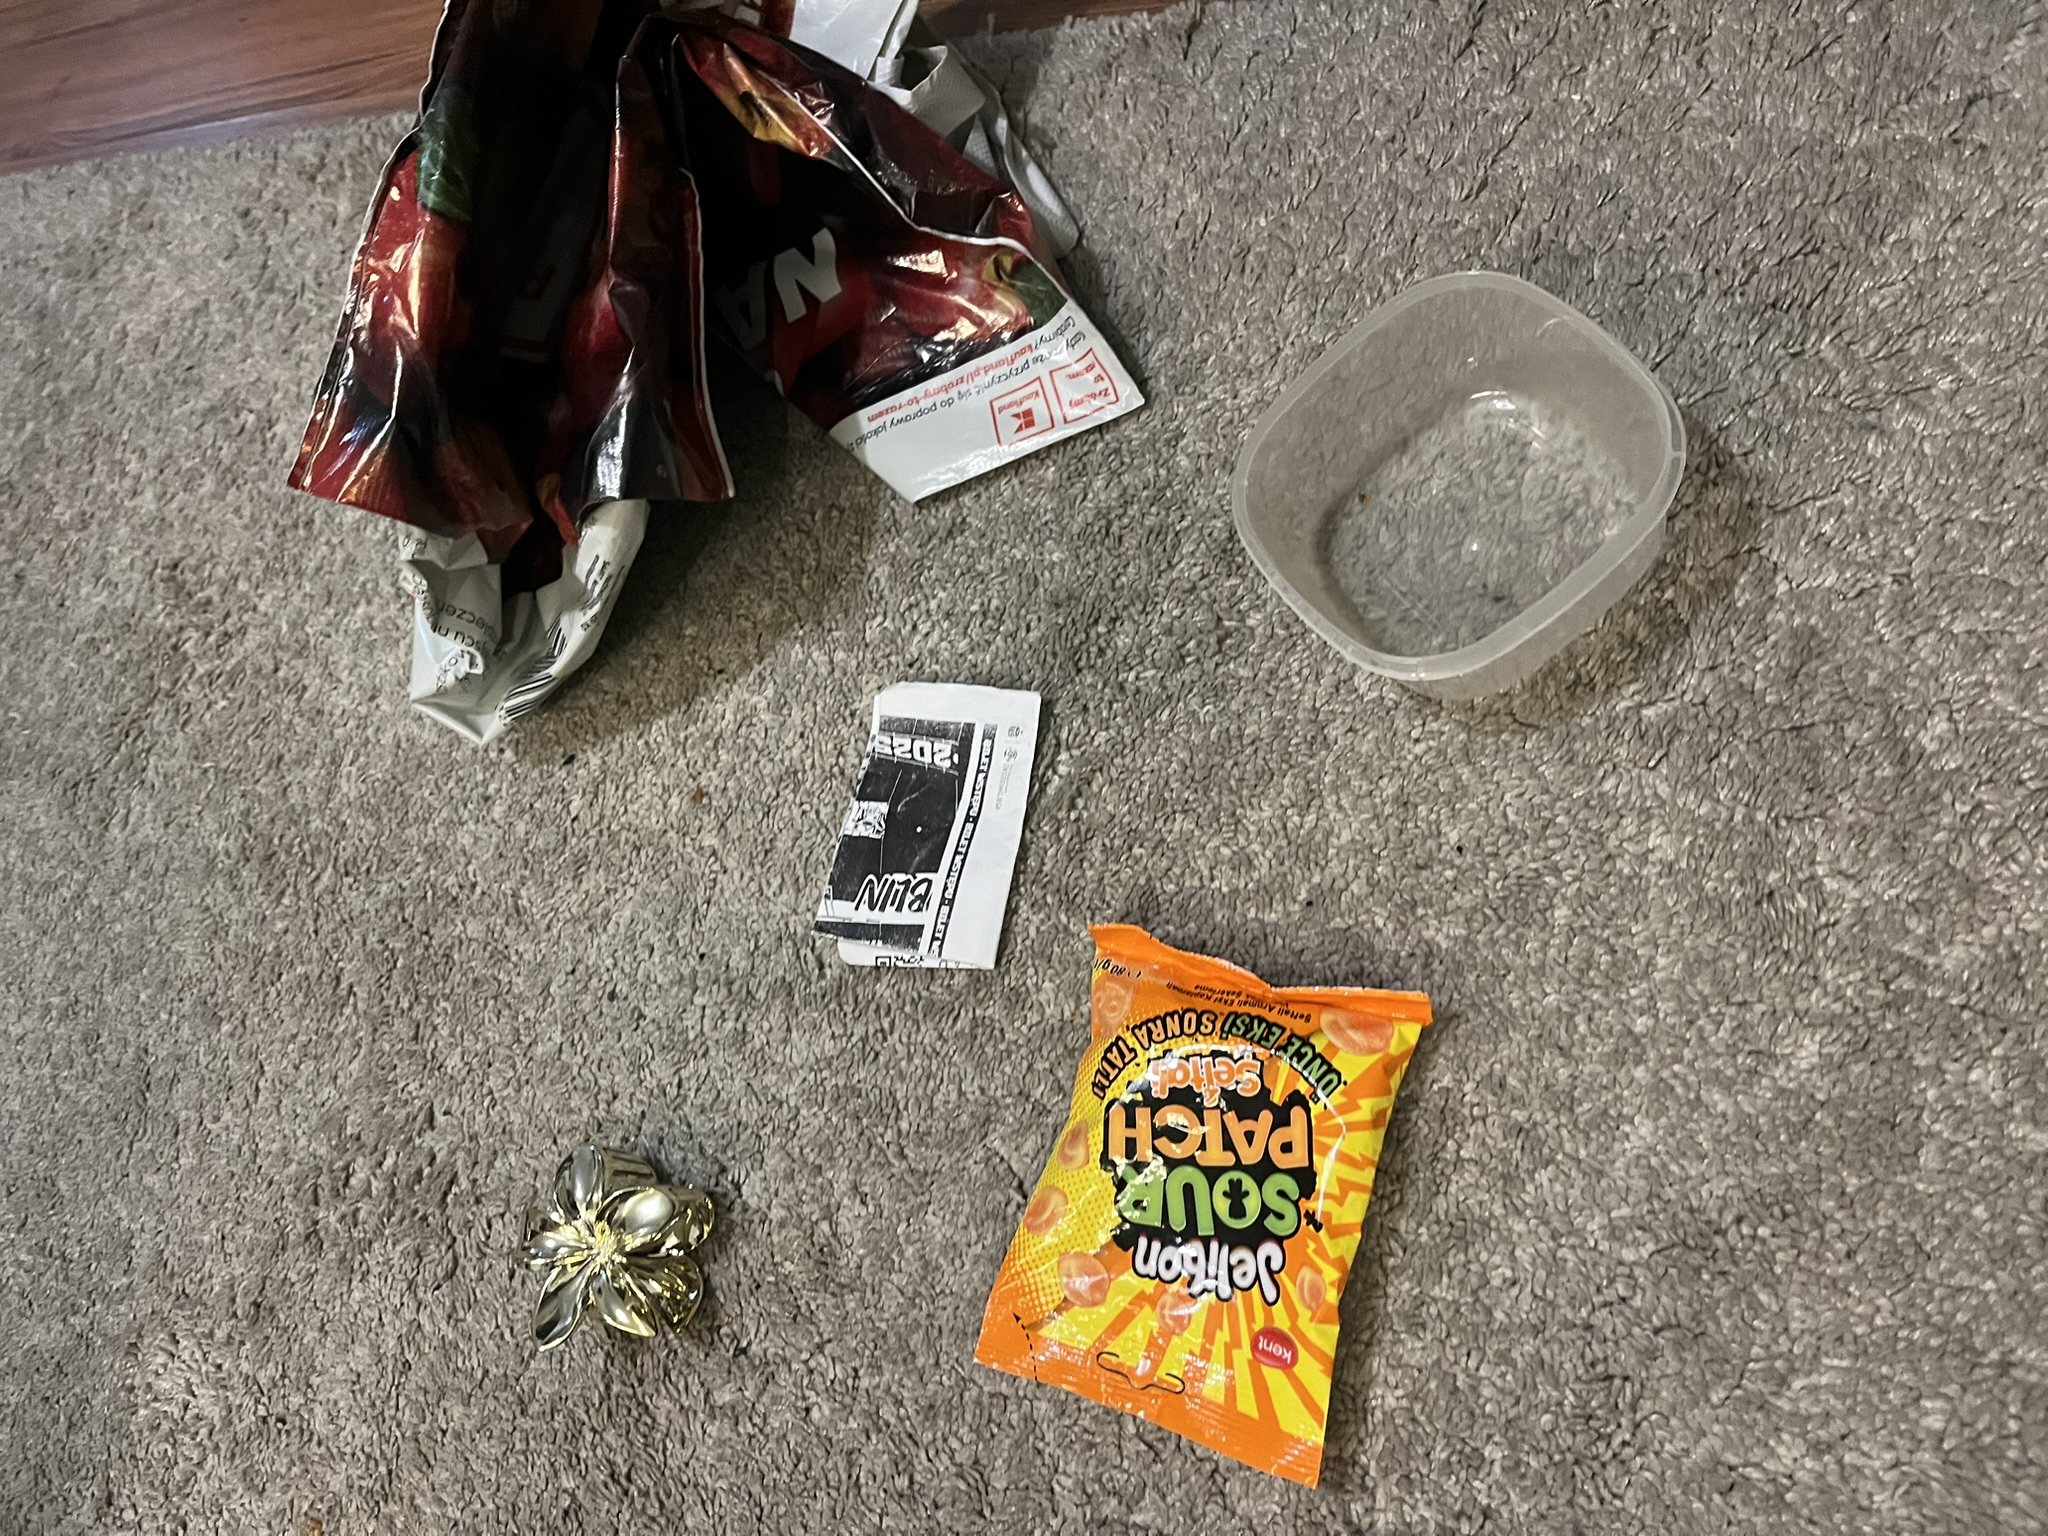METAL: (493, 1108, 724, 1388)
PAPER: (856, 652, 1074, 962)
PLASTIC: (314, 0, 1180, 763), (1069, 895, 1476, 1413), (1464, 163, 1880, 632)
